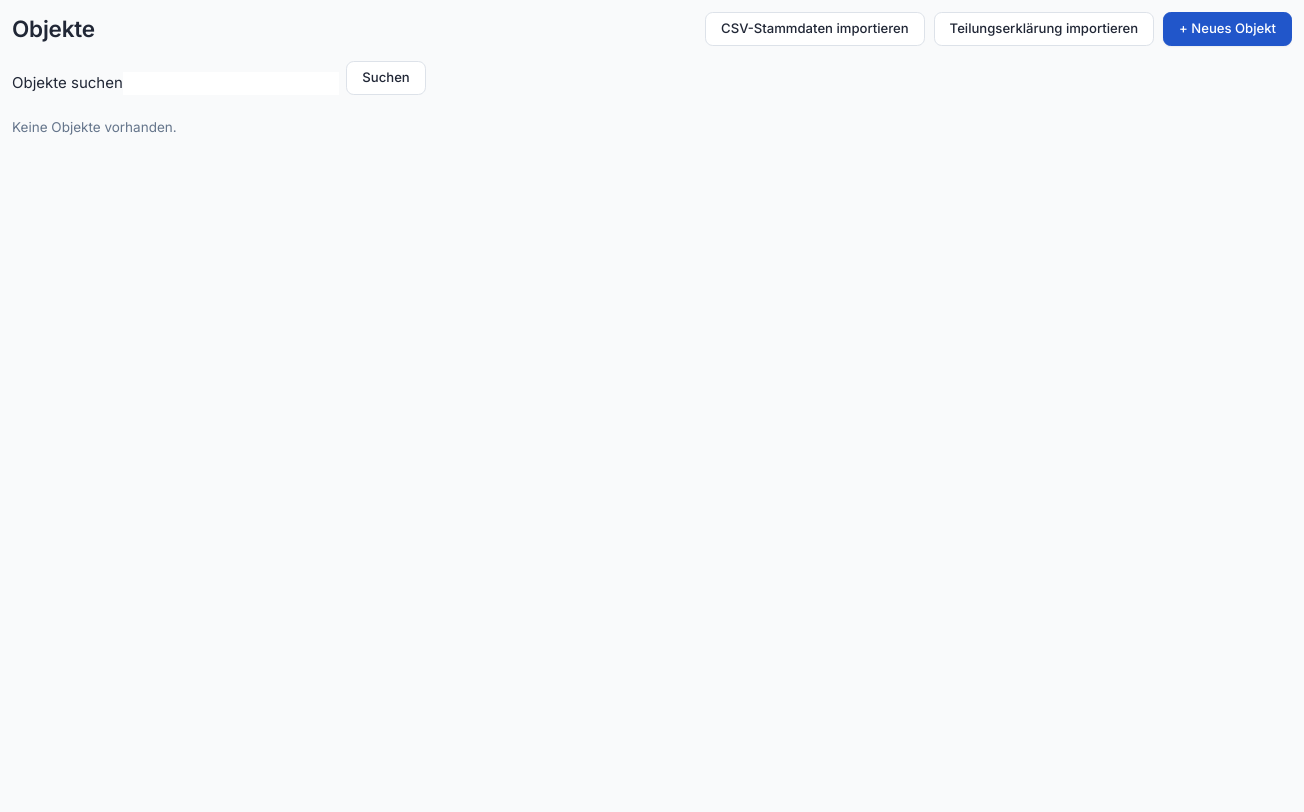
keeps the entry closed without import requests and opens a real template link
This screenshot has width=1304, height=812.
expect the text "Keine Objekte vorhanden." is shown: met, box [12,119,177,135]
expect the field labelled "CSV-Datei" is not shown: met
Click the button "CSV-Stammdaten importieren" at (815, 29), box [705,12,925,46]
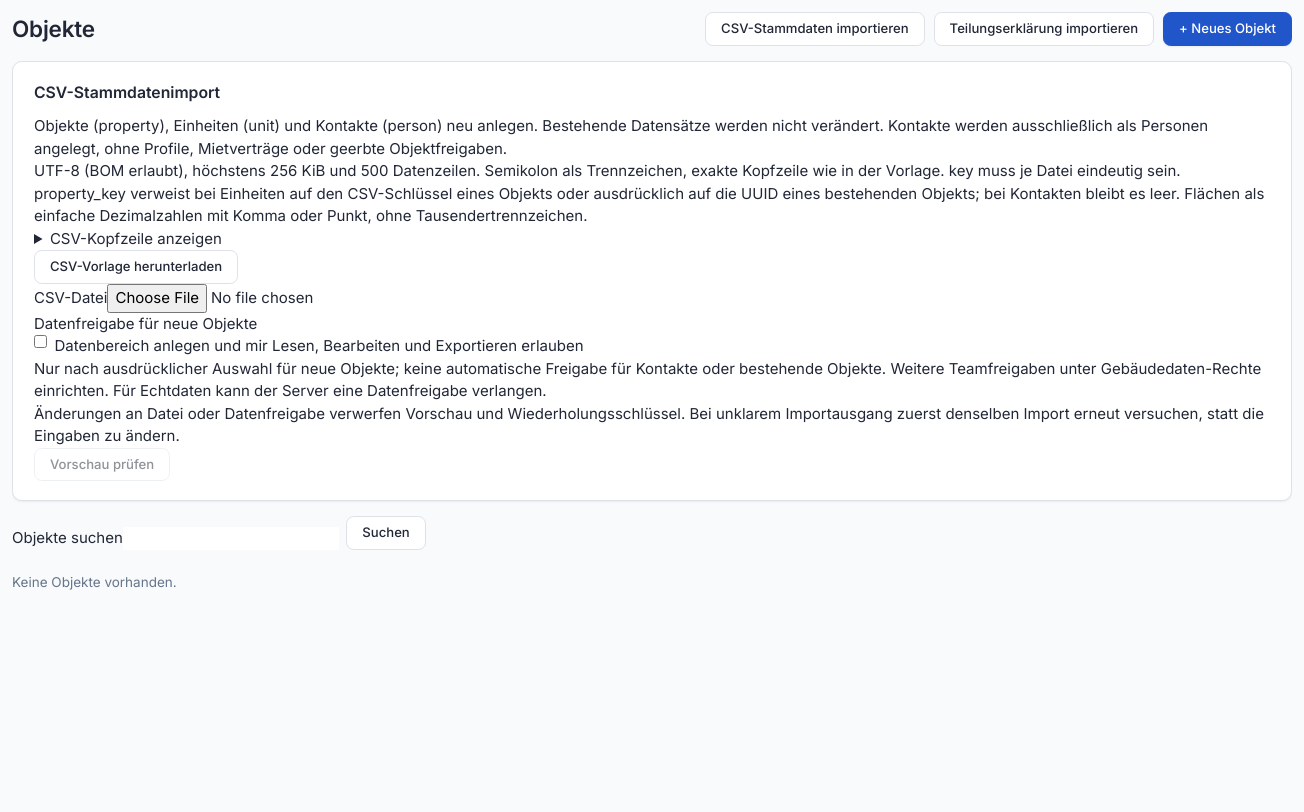
expect the file field labelled "CSV-Datei" is shown: met, box [108,284,430,313]
